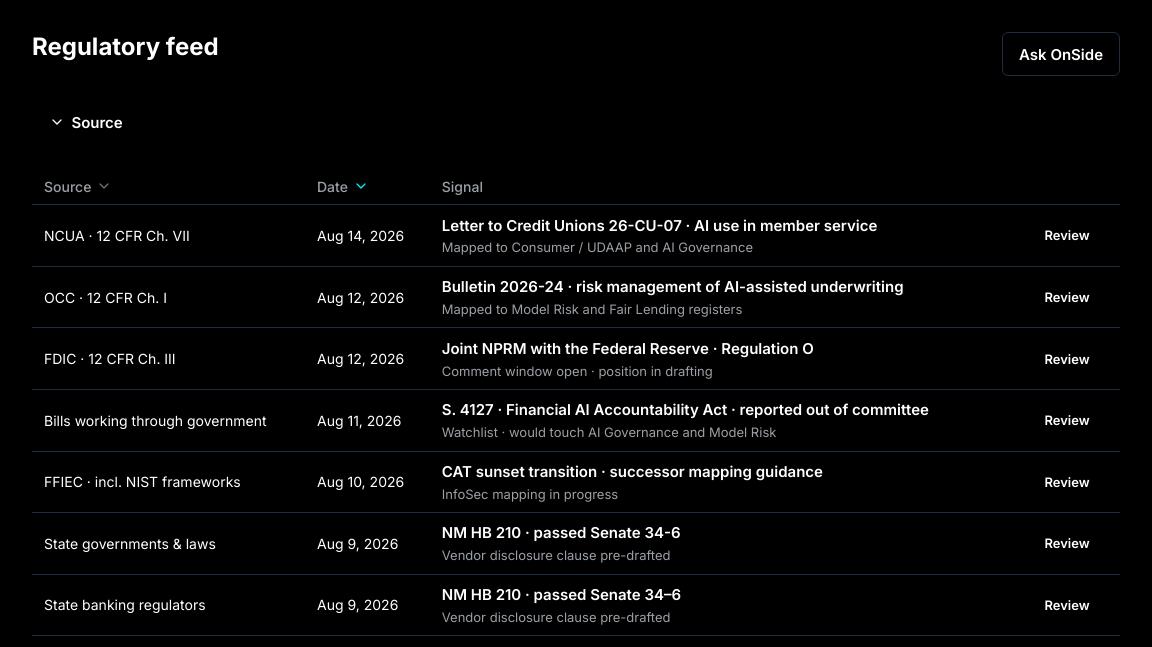
Test: Ask OnSide — real suggestion chips render (regression: was zero chips, entries: []) › opening "Ask OnSide" from Regulatory feed shows every ONSIDE_CHAT.entries question as a suggestion Chip
Click the button "Ask OnSide" at point(1061, 54), box [1002,32,1120,76]
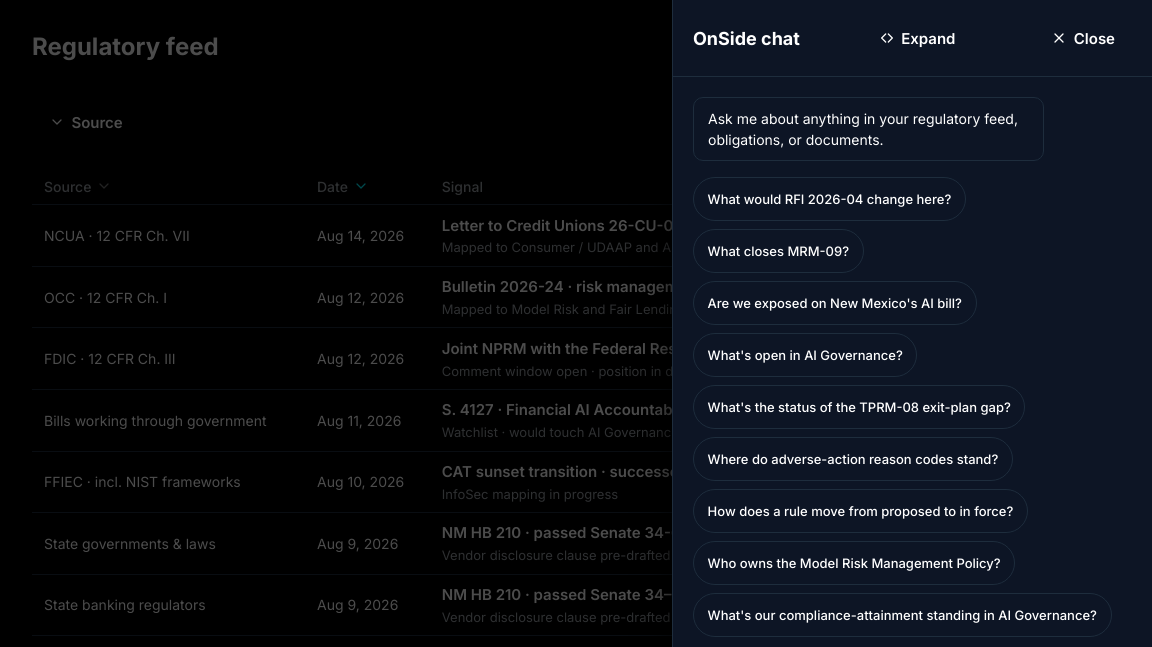
Expected: the button "What would RFI 2026-04 change here?" is shown, [693,177,966,221]
Expected: the button "What closes MRM-09?" is shown, [693,229,864,273]
Expected: the button "Are we exposed on New Mexico's AI bill?" is shown, [693,281,976,325]
